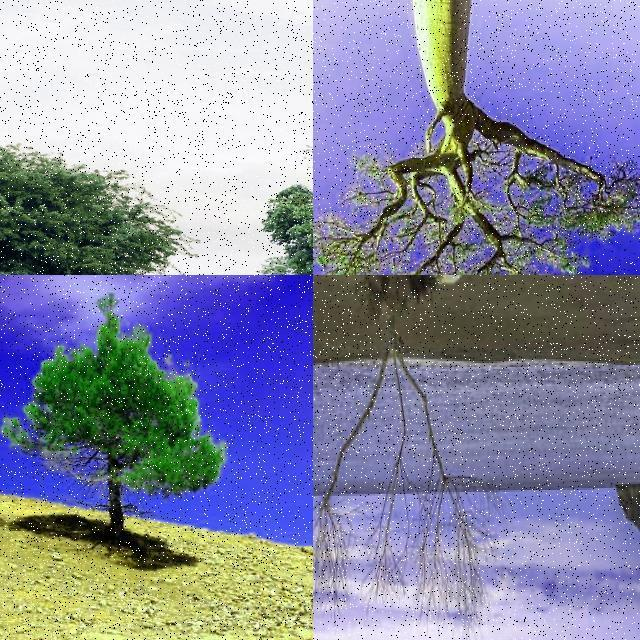tree: (312, 1, 640, 276), (313, 330, 512, 640), (20, 298, 228, 550), (0, 112, 190, 276), (318, 0, 407, 100), (584, 0, 638, 80), (495, 1, 563, 64)
